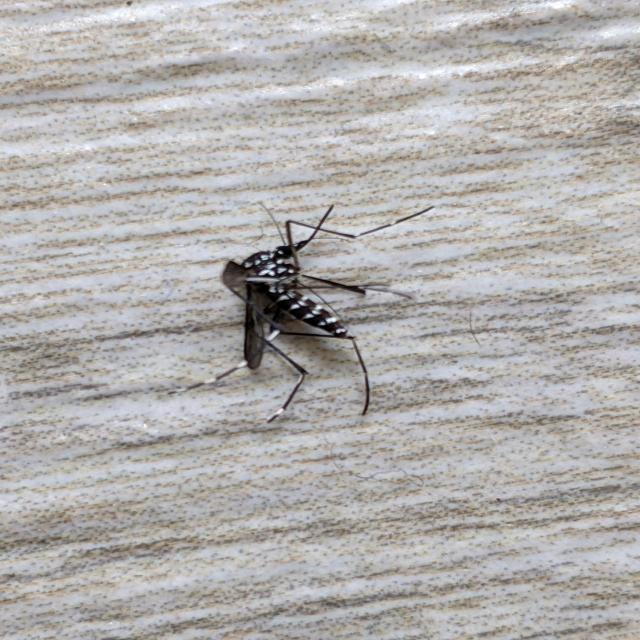albopictus: (172, 194, 436, 427)
